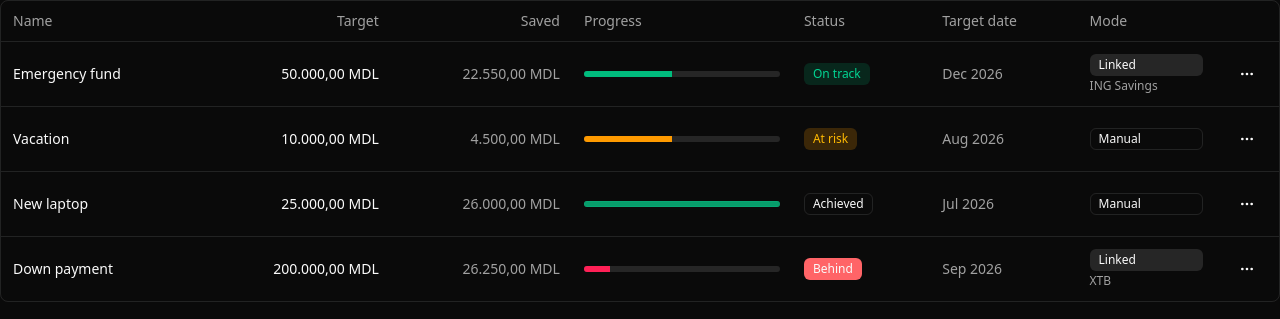
Test: GoalsTable › only shows "Update saved" in the row menu for manual-mode goals
expect the number of rows with test id "goal-row" is 4: met, box [1,41,1279,106]; [1,106,1279,171]; [1,171,1279,236]; [1,236,1279,300]
expect the row with test id "goal-row" that starts with "Vacation" is shown: met, box [1,106,1279,171]
Click the button with test id "goal-actions": (1247, 138) [1227,118,1267,158]
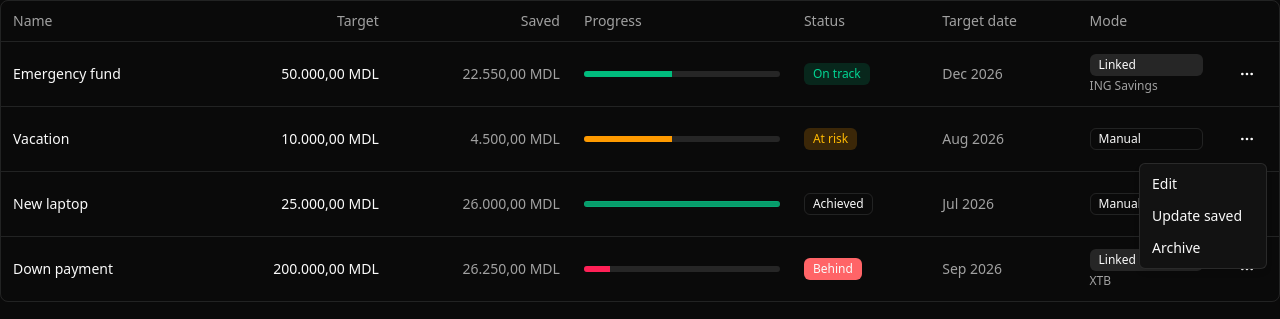
expect the menu item with test id "update-saved-action" is shown: met, box [1152,206,1242,225]
# Close menu — press Escape so the dropdown closes cleanly.
Press Escape
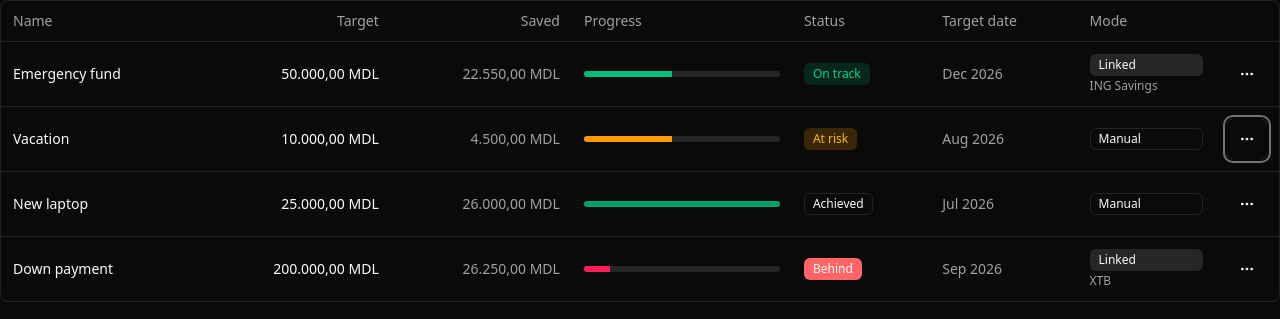
expect the row with test id "goal-row" that starts with "Emergency fund" is shown: met, box [1,41,1279,106]
Click the button with test id "goal-actions": (1247, 74) [1227,54,1267,94]
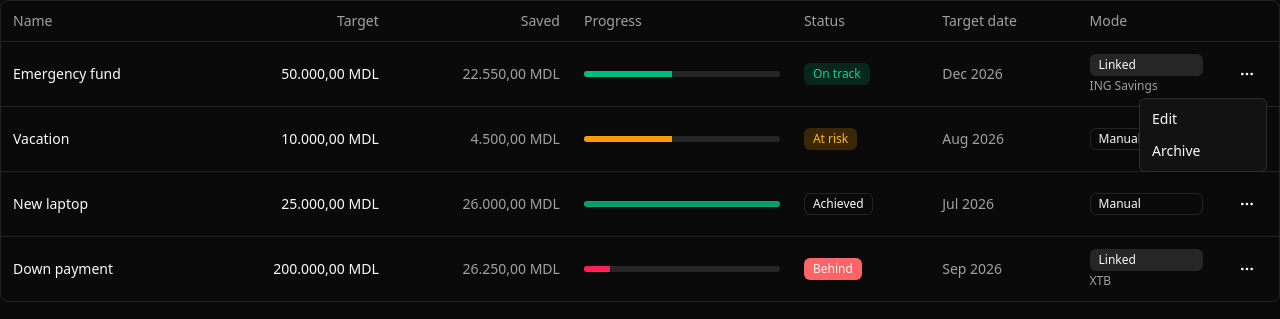
expect the menu item with test id "edit-goal-action" is shown: met, box [1152,109,1177,128]
